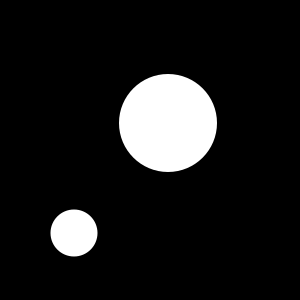rectangle: (119, 74, 217, 172), (50, 209, 98, 256)
